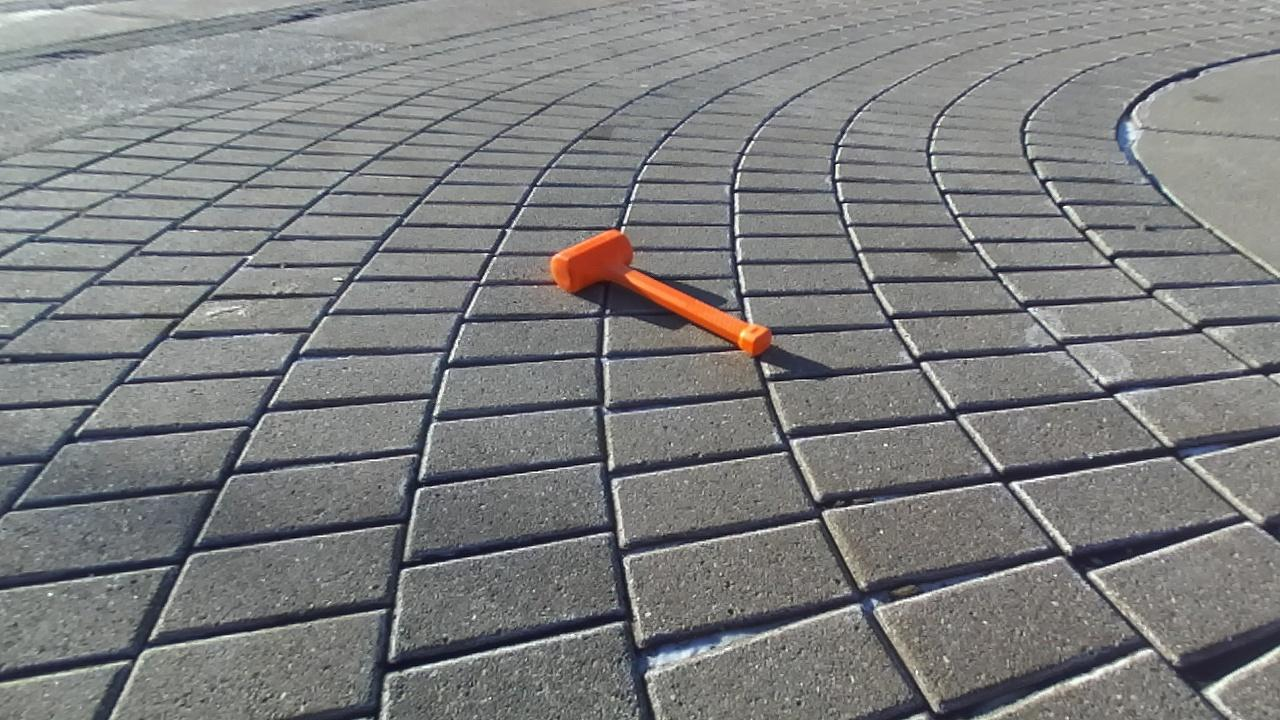mallet: (550, 229, 770, 355)
